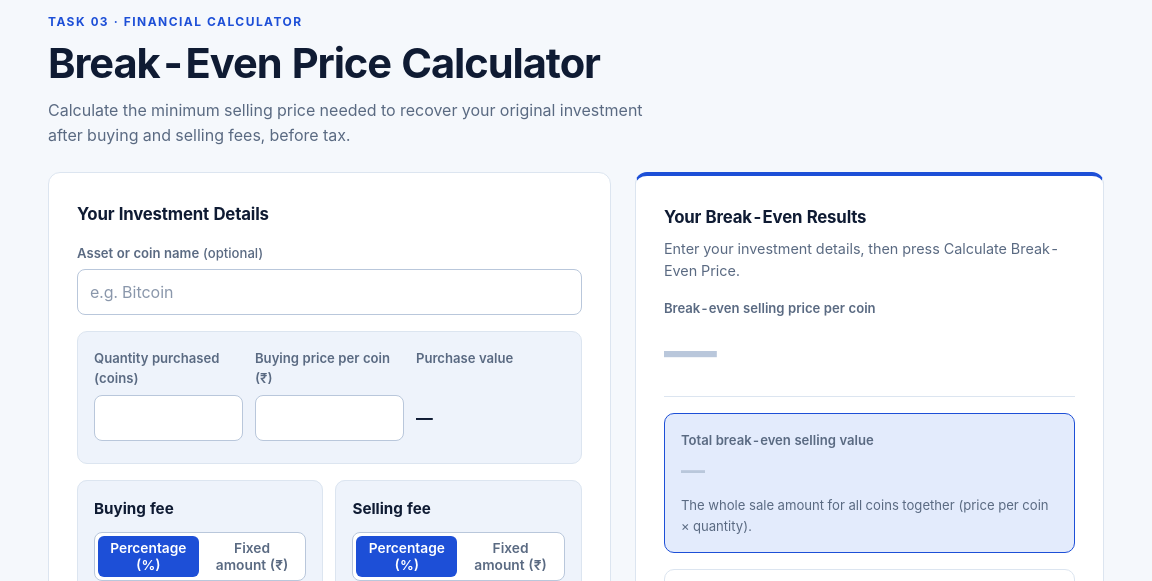
Test: formula section shows real numbers after calculating › fills each step with the entered values
Step 1. Type "5" into the field labelled "Quantity purchased (coins)" → (168, 418), box [94, 395, 243, 441]
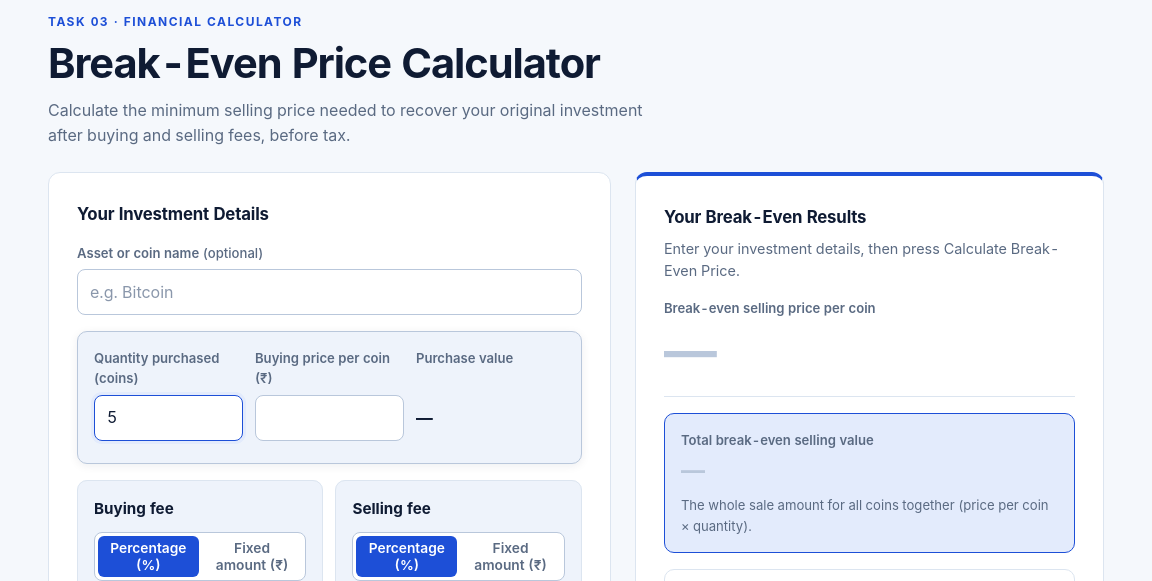
Step 2. Type "100" into the field labelled "Buying price per coin (₹)" → (330, 418), box [255, 395, 404, 441]
(page scrolled)
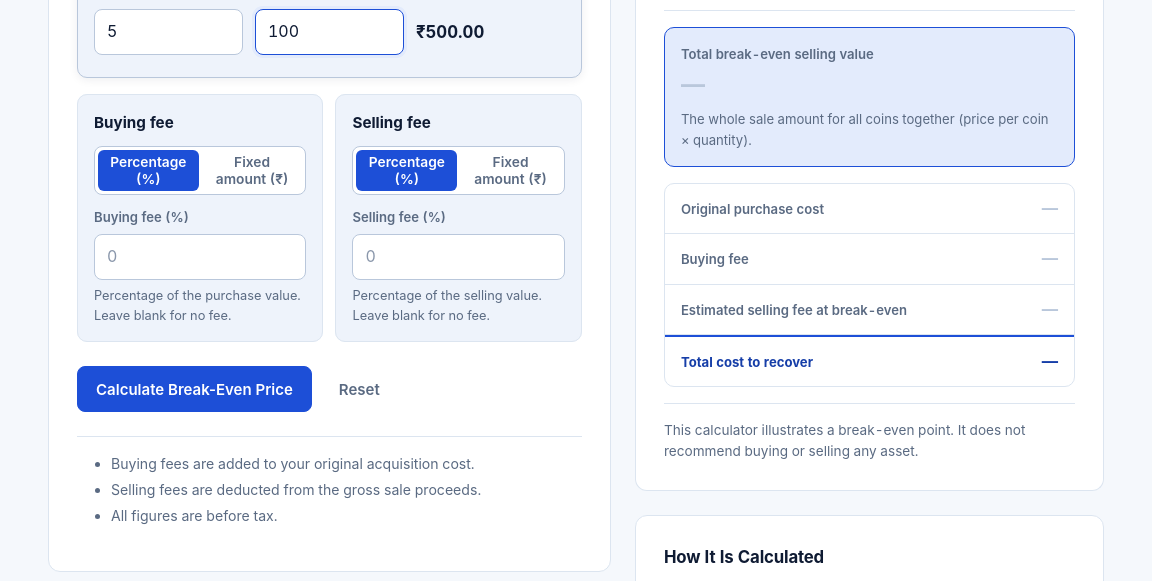
Step 3. Type "2" into the field labelled "Buying fee (%)" → (200, 257), box [94, 234, 306, 280]
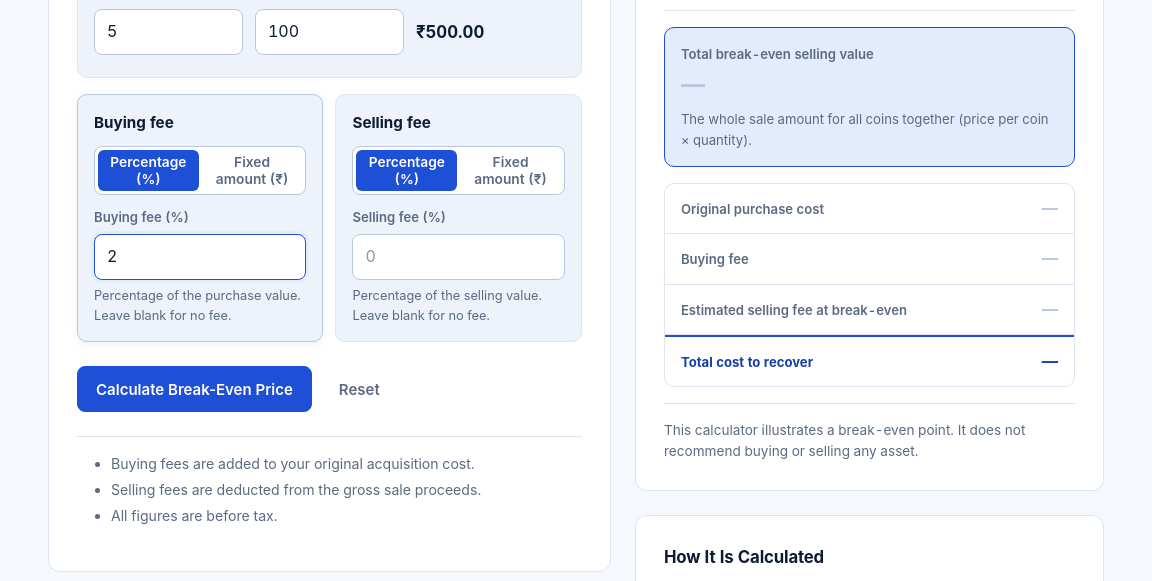
Step 4. Type "1" into the field labelled "Selling fee (%)" → (459, 257), box [352, 234, 565, 280]
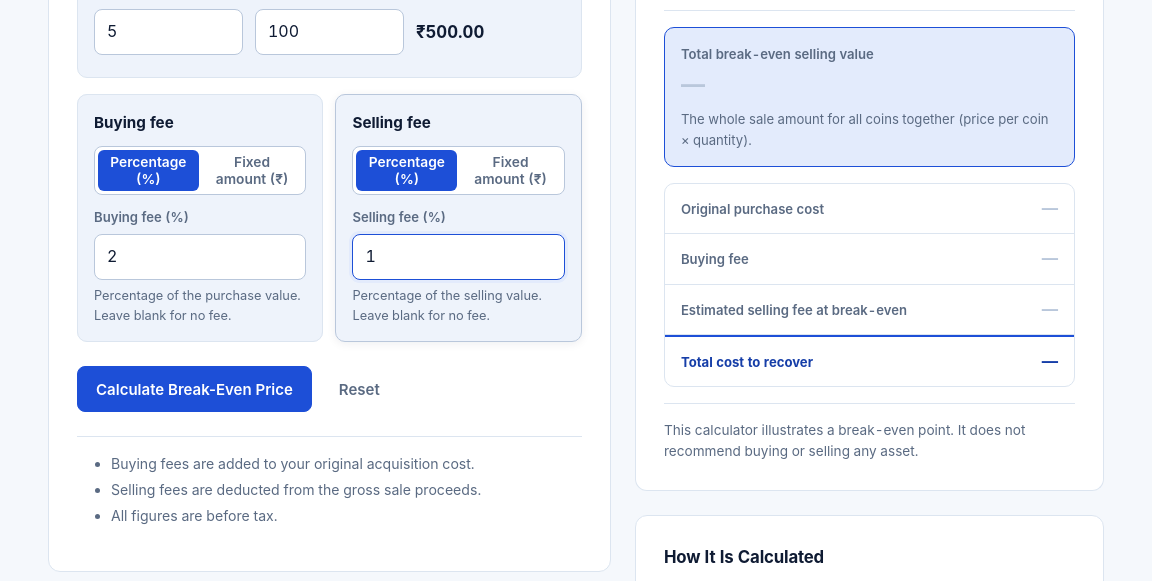
Expected: the text "5 × ₹100.00 = ₹500.00" is not shown
Step 5. Click the button "Calculate Break-Even Price" → (194, 389), box [77, 366, 312, 412]
(page scrolled)
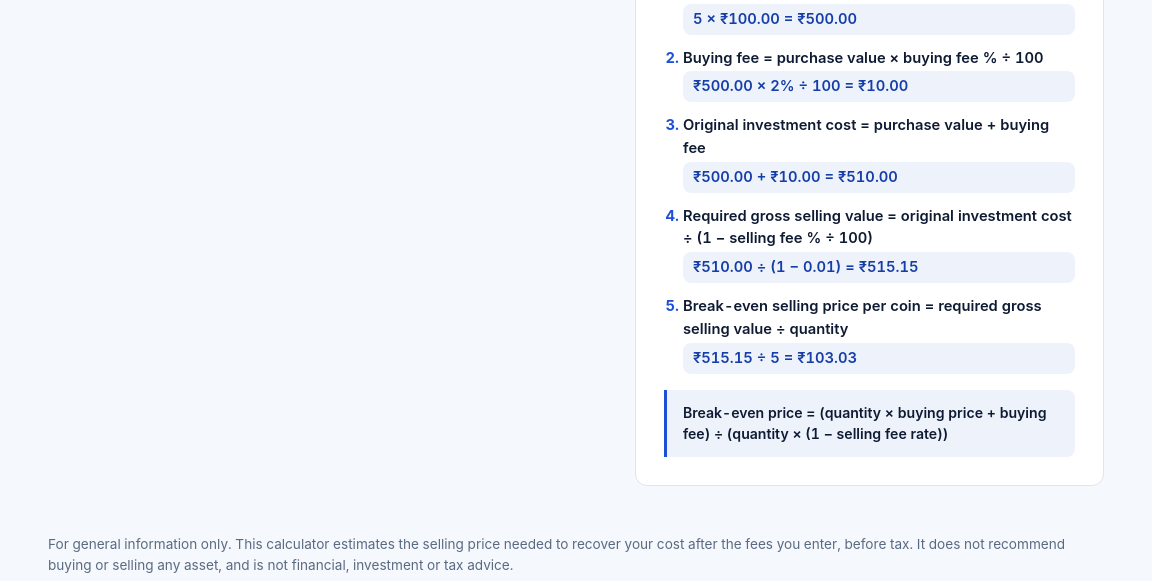
Result: the text "5 × ₹100.00 = ₹500.00" is shown at [683, 4, 1075, 35]
Result: the text "₹500.00 × 2% ÷ 100 = ₹10.00" is shown at [683, 71, 1075, 102]
Result: the text "₹510.00 ÷ (1 − 0.01) = ₹515.15" is shown at [683, 252, 1075, 283]
